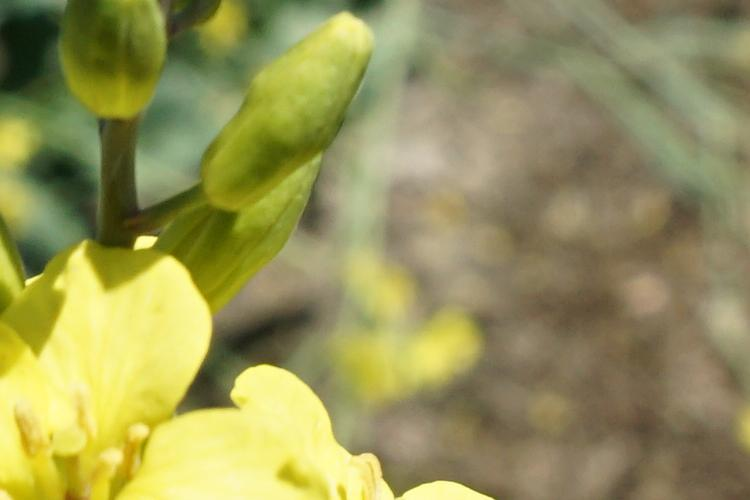bud: (208, 20, 371, 210), (61, 9, 164, 120)
yellow: (17, 260, 433, 500)
